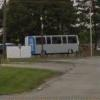Bus: (26, 30, 81, 56)
